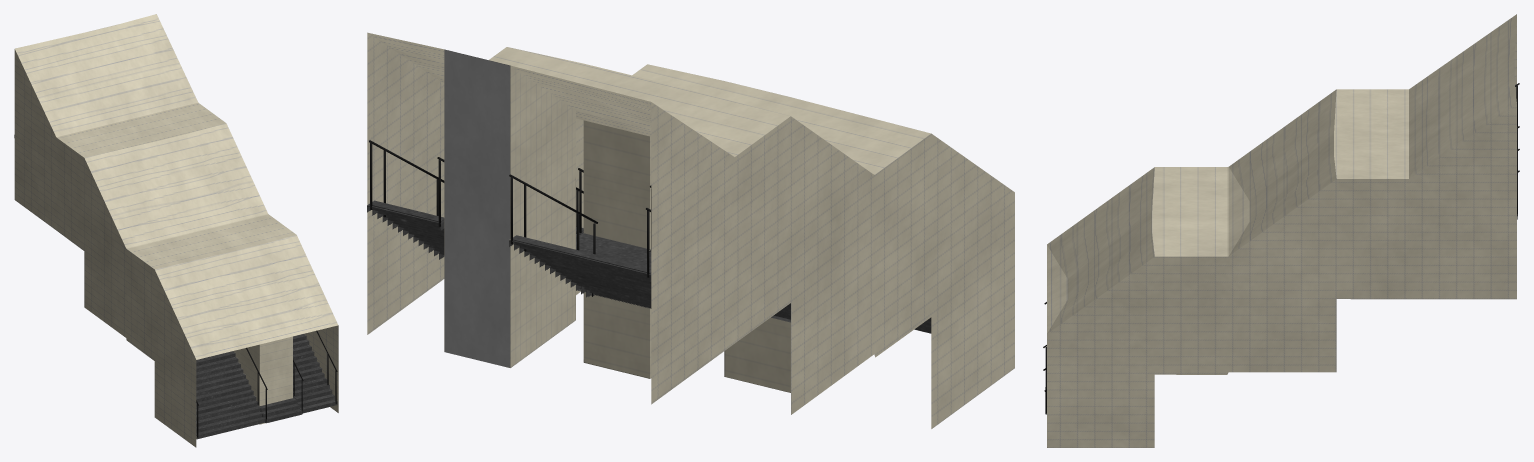
Rendered from stairsLast.fbx.
The picture shows the model from 3 angles, left to right: view 1: azimuth 30°, elevation 25°; view 2: azimuth 150°, elevation 25°; view 3: azimuth 270°, elevation 25°; orthographic projection. The views are drawn at different scales.
Visible parts, largest first — view 1: stairs; view 2: stairs; view 3: stairs.
Part boxes in pixels (x1,y1,x2,y2): stairs: (14,14,338,447); stairs: (367,32,1014,428); stairs: (1043,14,1519,447).
Bounding box in the file's own units: 957 × 1714 × 2150.
1 material, 1 textured.
